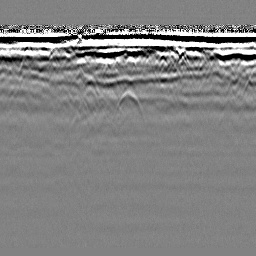cavity: (113, 85, 145, 118)
